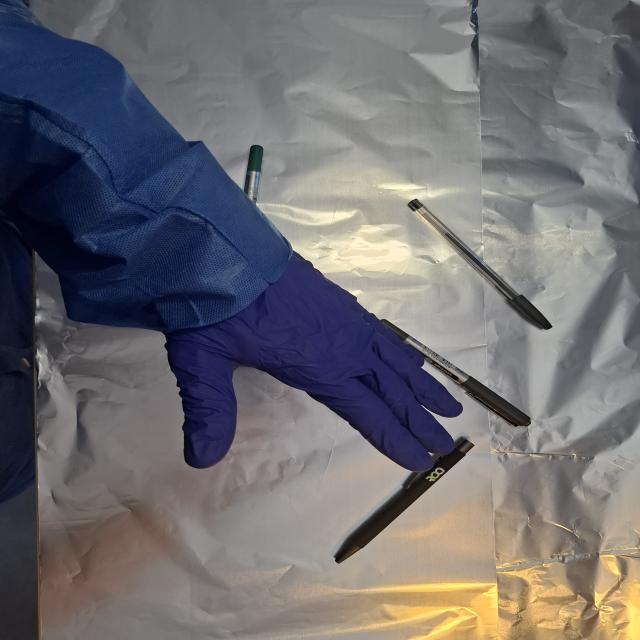glove_on: (157, 249, 466, 476)
